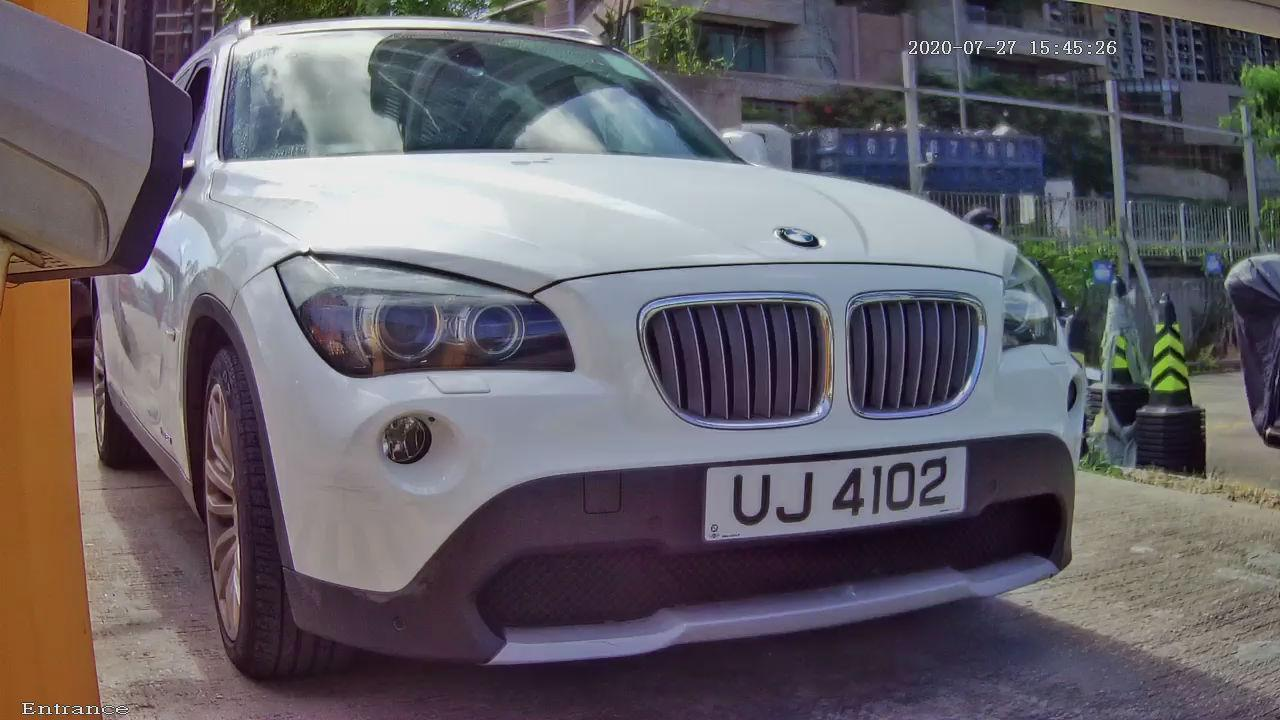privatecar: (109, 49, 1143, 688)
